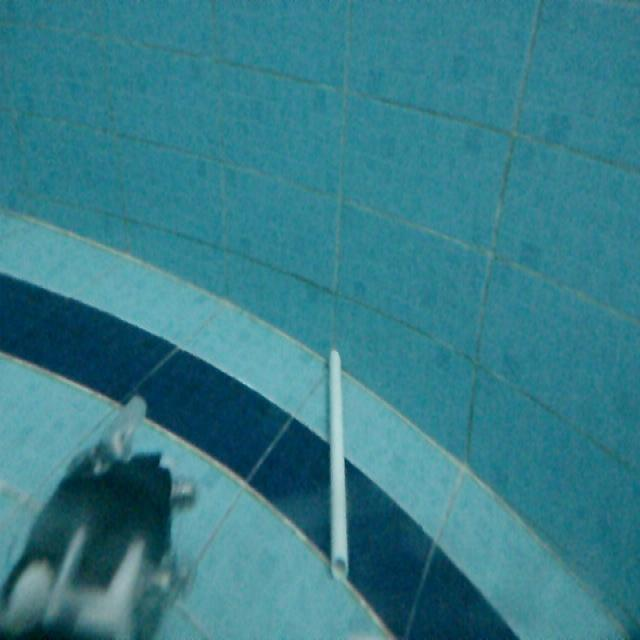Cube: (323, 343, 352, 581)
